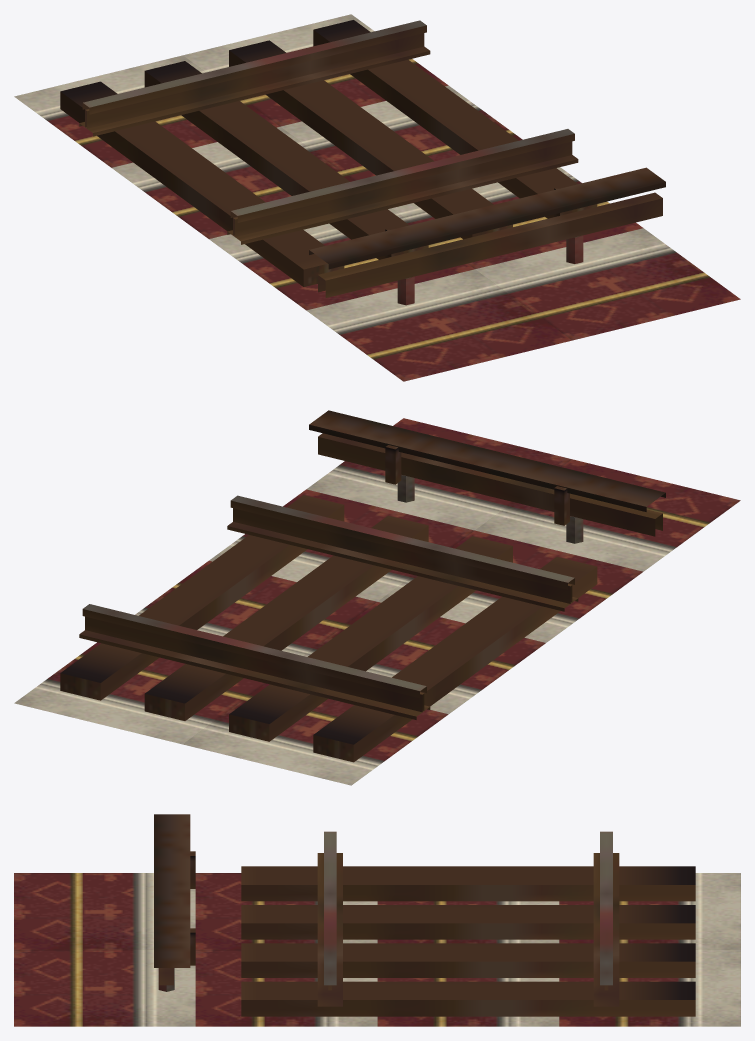
The model's file is track.fbx.
3 renders of one model, top to bottom at view 1: azimuth 30°, elevation 25°; view 2: azimuth 150°, elevation 25°; view 3: azimuth 270°, elevation 25°, orthographic. The views are drawn at different scales.
Visible parts, largest first — view 1: track; view 2: track; view 3: track.
Boxes of the visible parts, x1,y1,x2,y2 form: track: [14, 14, 740, 381]; track: [14, 410, 740, 785]; track: [14, 814, 740, 1026].
Size of the model in its own units: 2 by 0.355 by 4.
